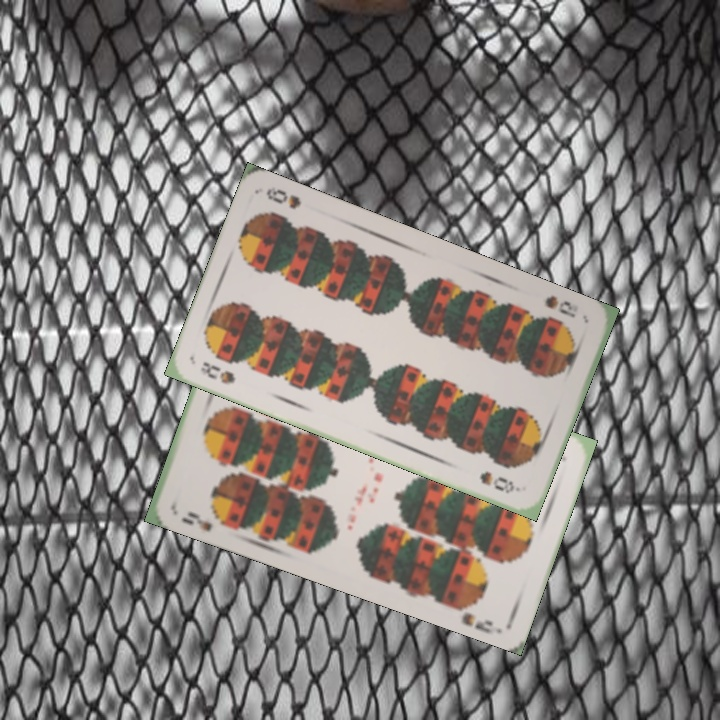S8: (196, 357, 238, 387), (541, 291, 578, 321)
S9: (177, 507, 231, 535)
